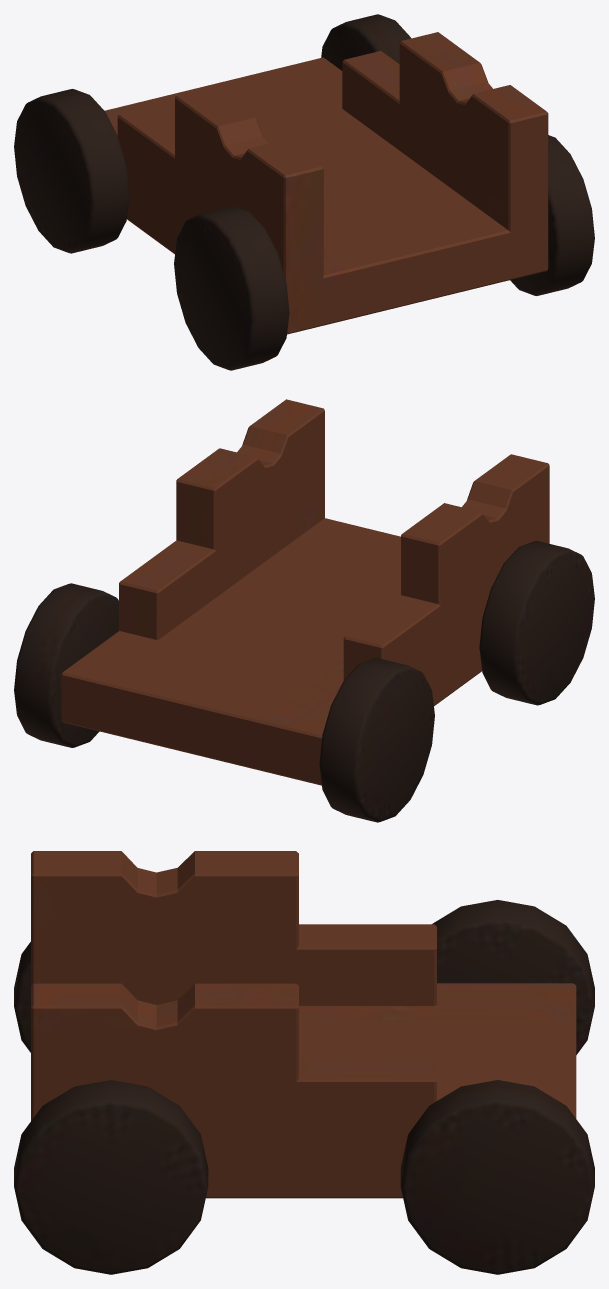
Rendered from cannon_mount.glb.
3 renders of one model, top to bottom at view 1: azimuth 30°, elevation 25°; view 2: azimuth 150°, elevation 25°; view 3: azimuth 270°, elevation 25°, orthographic. The views are drawn at different scales.
Parts seen in each view (by area): view 1: cannonMount; view 2: cannonMount; view 3: cannonMount.
Boxes of the visible parts, <box> form: cannonMount: <box>14,14,594,370</box>; cannonMount: <box>14,399,594,822</box>; cannonMount: <box>14,851,594,1274</box>.
Bounding box in the file's own units: 0.8238 × 0.4671 × 0.9972.
1 material, 1 textured.
